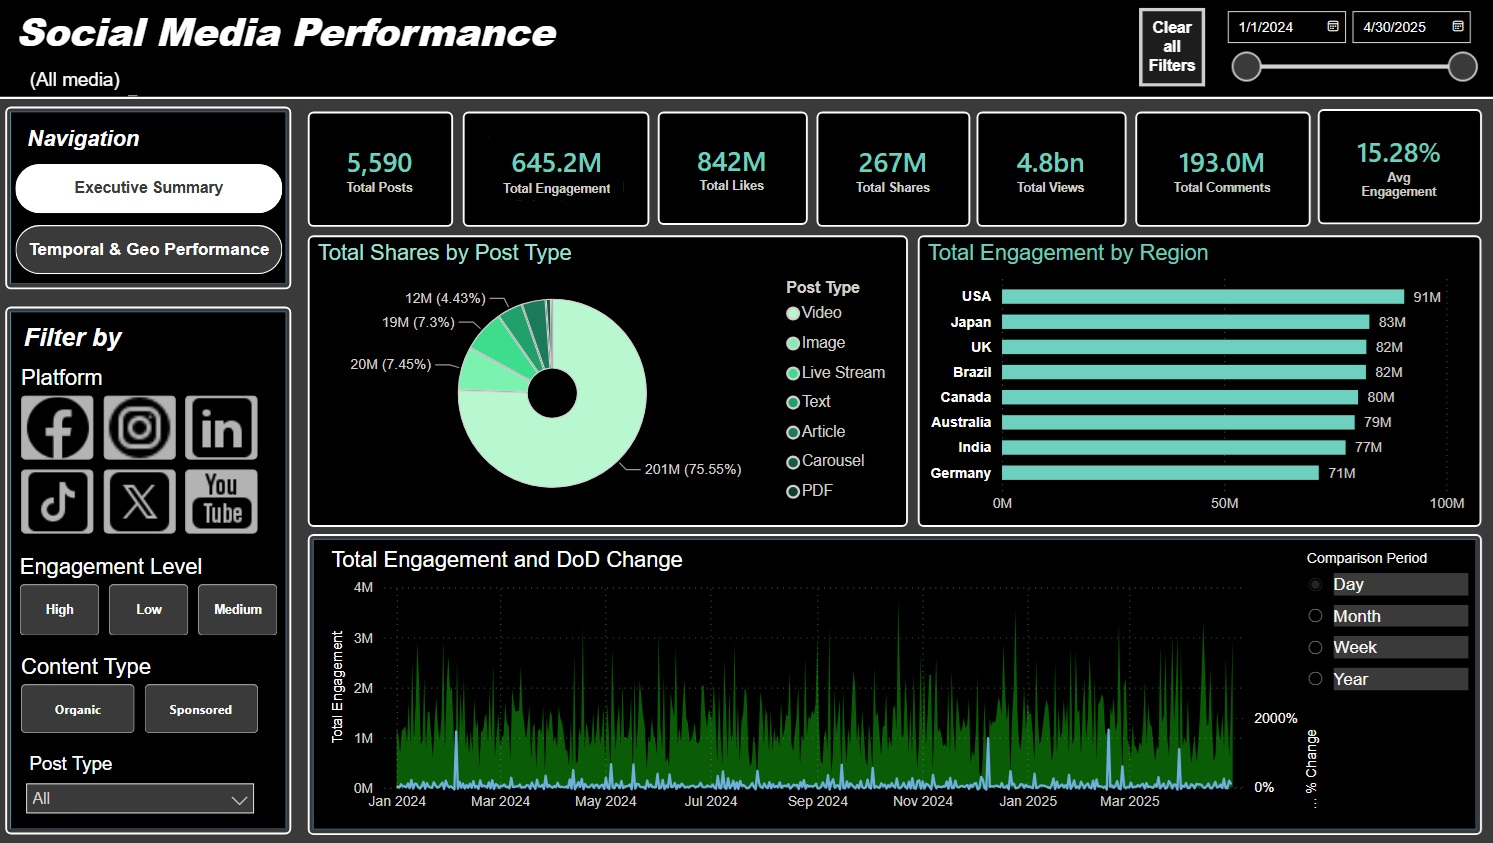

This screenshot's page, from the dashboard's own definition file:
{"tool":"powerbi","page":{"name":"Executive Summary","canvas":[1280,720],"ordinal":0},"visuals":[{"type":"shape","box":[0,0,1279.8,84.7],"z":0},{"type":"shape","box":[4.9,92,244.2,155.8],"z":1000},{"type":"shape","box":[4.9,262.6,244.2,450.3],"z":2000},{"type":"shape","box":[263.8,456.4,1001.2,256.4],"z":3000},{"type":"cardVisual","fields":{"Data":["Key Measures.Total Posts"]},"box":[263.8,95.7,123.9,98.2],"z":4000},{"type":"cardVisual","fields":{"Data":["Key Measures.Total Engagement"]},"box":[395.1,95.7,159.5,98.2],"z":5000},{"type":"cardVisual","fields":{"Data":["Key Measures.Total Likes"]},"box":[562,95.7,127.6,96.9],"z":6000},{"type":"cardVisual","fields":{"Data":["Key Measures.Total Shares"]},"box":[696.9,95.7,131.3,98.2],"z":7000},{"type":"cardVisual","fields":{"Data":["Key Measures.Total Views"]},"box":[834.4,95.7,127.6,98.2],"z":8000},{"type":"cardVisual","fields":{"Data":["Key Measures.Total Comments"]},"box":[969.3,95.7,149.7,98.2],"z":9000},{"type":"cardVisual","fields":{"Data":["Key Measures.Avg Engagement"]},"box":[1125.2,94.2,139.9,98.2],"z":10000},{"type":"donutChart","fields":{"Y":["Key Measures.Total Shares"],"Category":["Posts.Post_Type","Posts.Content_Category"]},"box":[263.8,201.2,511.7,249.1],"z":11000},{"type":"clusteredBarChart","title":"Total Engagement by Region","fields":{"Y":["Key Measures.Total Engagement"],"Category":["Dim_Location.Region"]},"box":[784.1,201.2,481,249.1],"z":12000},{"type":"slicer","fields":{"Values":["Time_Granularity.Period"]},"box":[1103.1,465,155.8,235.6],"z":13000},{"type":"stackedAreaChart","fields":{"Category":["Dim_Date.Date.Variation.Date Hierarchy.Year","Dim_Date.Date.Variation.Date Hierarchy.Quarter","Dim_Date.Date.Variation.Date Hierarchy.Month","Dim_Date.Date.Variation.Date Hierarchy.Day"],"Y":["Key Measures.Total Engagement"]},"box":[281,465,798.8,235.6],"z":14000},{"type":"lineChart","fields":{"Category":["Dim_Date.Date.Variation.Date Hierarchy.Year","Dim_Date.Date.Variation.Date Hierarchy.Quarter","Dim_Date.Date.Variation.Date Hierarchy.Month","Dim_Date.Date.Variation.Date Hierarchy.Day"],"Y2":["Key Measures.Engagement % Change"]},"box":[325.2,598.8,807.4,108],"z":15000},{"type":"advancedSlicerVisual","title":"Engagement Level","fields":{"Values":["Posts.Engagement_Level"]},"box":[12.3,473.6,230.7,74.8],"z":16000},{"type":"advancedSlicerVisual","title":"Content Type","fields":{"Values":["Posts.Content_Type"]},"box":[13.5,558.3,213.5,73.6],"z":17000},{"type":"slicer","title":"Post Type","fields":{"Values":["Posts.Post_Type"]},"box":[12.3,639.3,214.7,65],"z":18000},{"type":"advancedSlicerVisual","title":"Platform","fields":{"Values":["Dim_Platform.Platform_Icon_URL"]},"box":[13.5,312.9,213.5,149.7],"z":19000},{"type":"pageNavigator","box":[13.5,141.1,228.2,94.5],"z":20000},{"type":"textbox","box":[16,272.4,109.2,35.6],"z":21000},{"type":"slicer","fields":{"Values":["Dim_Date.Date"]},"box":[1035.6,0,234.4,84.7],"z":22000},{"type":"shape","box":[0,76.1,1279.8,17.2],"z":23000},{"type":"textbox","box":[19.6,103.1,150.9,35.6],"z":24000},{"type":"textbox","box":[20.9,60.1,101.8,28.2],"z":25000},{"type":"textbox","box":[9.8,0,758.3,66.3],"z":26000},{"type":"actionButton","title":"Clear All Filters","box":[973,7.4,56.4,67.5],"z":27000}]}

Visuals, with their boxes in screenshot pixels (x1, y1, x2, y2), scaled from the page's 1280x720 canvas onto the 1493x843 screenshot:
shape: [left=0, top=0, right=1492, bottom=99]
shape: [left=6, top=108, right=291, bottom=290]
shape: [left=6, top=307, right=291, bottom=835]
shape: [left=308, top=534, right=1476, bottom=835]
cardVisual - Key Measures.Total Posts: [left=308, top=112, right=452, bottom=227]
cardVisual - Key Measures.Total Engagement: [left=461, top=112, right=647, bottom=227]
cardVisual - Key Measures.Total Likes: [left=656, top=112, right=804, bottom=226]
cardVisual - Key Measures.Total Shares: [left=813, top=112, right=966, bottom=227]
cardVisual - Key Measures.Total Views: [left=973, top=112, right=1122, bottom=227]
cardVisual - Key Measures.Total Comments: [left=1131, top=112, right=1305, bottom=227]
cardVisual - Key Measures.Avg Engagement: [left=1312, top=110, right=1476, bottom=225]
donutChart - Key Measures.Total Shares x Posts.Post_Type: [left=308, top=236, right=905, bottom=527]
"Total Engagement by Region" clusteredBarChart: [left=915, top=236, right=1476, bottom=527]
slicer - Time_Granularity.Period: [left=1287, top=544, right=1468, bottom=820]
stackedAreaChart - Dim_Date.Date.Variation.Date Hierarchy.Year x Dim_Date.Date.Variation.Date Hierarchy.Quarter: [left=328, top=544, right=1259, bottom=820]
lineChart - Dim_Date.Date.Variation.Date Hierarchy.Year x Dim_Date.Date.Variation.Date Hierarchy.Quarter: [left=379, top=701, right=1321, bottom=828]
"Engagement Level" advancedSlicerVisual: [left=14, top=555, right=283, bottom=642]
"Content Type" advancedSlicerVisual: [left=16, top=654, right=265, bottom=740]
"Post Type" slicer: [left=14, top=749, right=265, bottom=825]
"Platform" advancedSlicerVisual: [left=16, top=366, right=265, bottom=542]
pageNavigator: [left=16, top=165, right=282, bottom=276]
textbox: [left=19, top=319, right=146, bottom=361]
slicer - Dim_Date.Date: [left=1208, top=0, right=1481, bottom=99]
shape: [left=0, top=89, right=1492, bottom=109]
textbox: [left=23, top=121, right=199, bottom=162]
textbox: [left=24, top=70, right=143, bottom=103]
textbox: [left=11, top=0, right=896, bottom=78]
"Clear All Filters" actionButton: [left=1135, top=9, right=1201, bottom=88]
